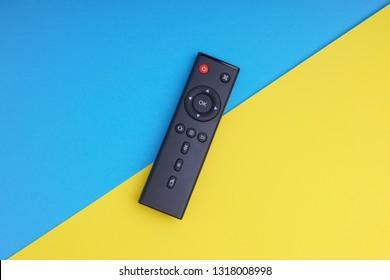Remote control: (137, 52, 240, 220)
